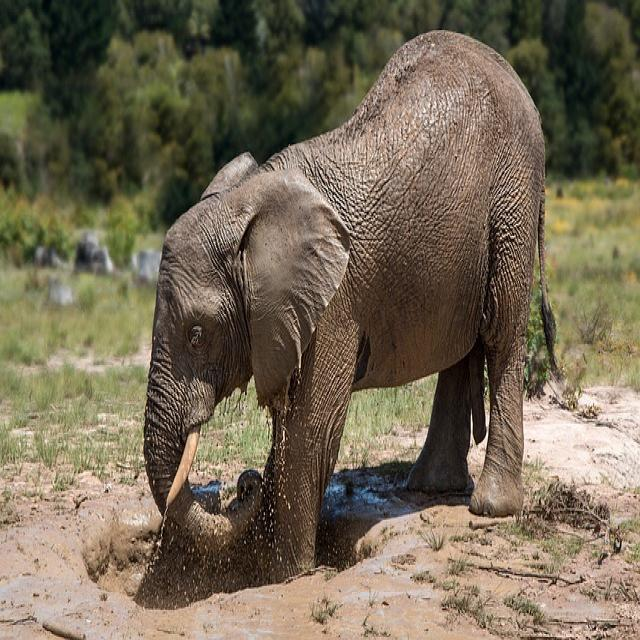elephant: (145, 32, 544, 578)
